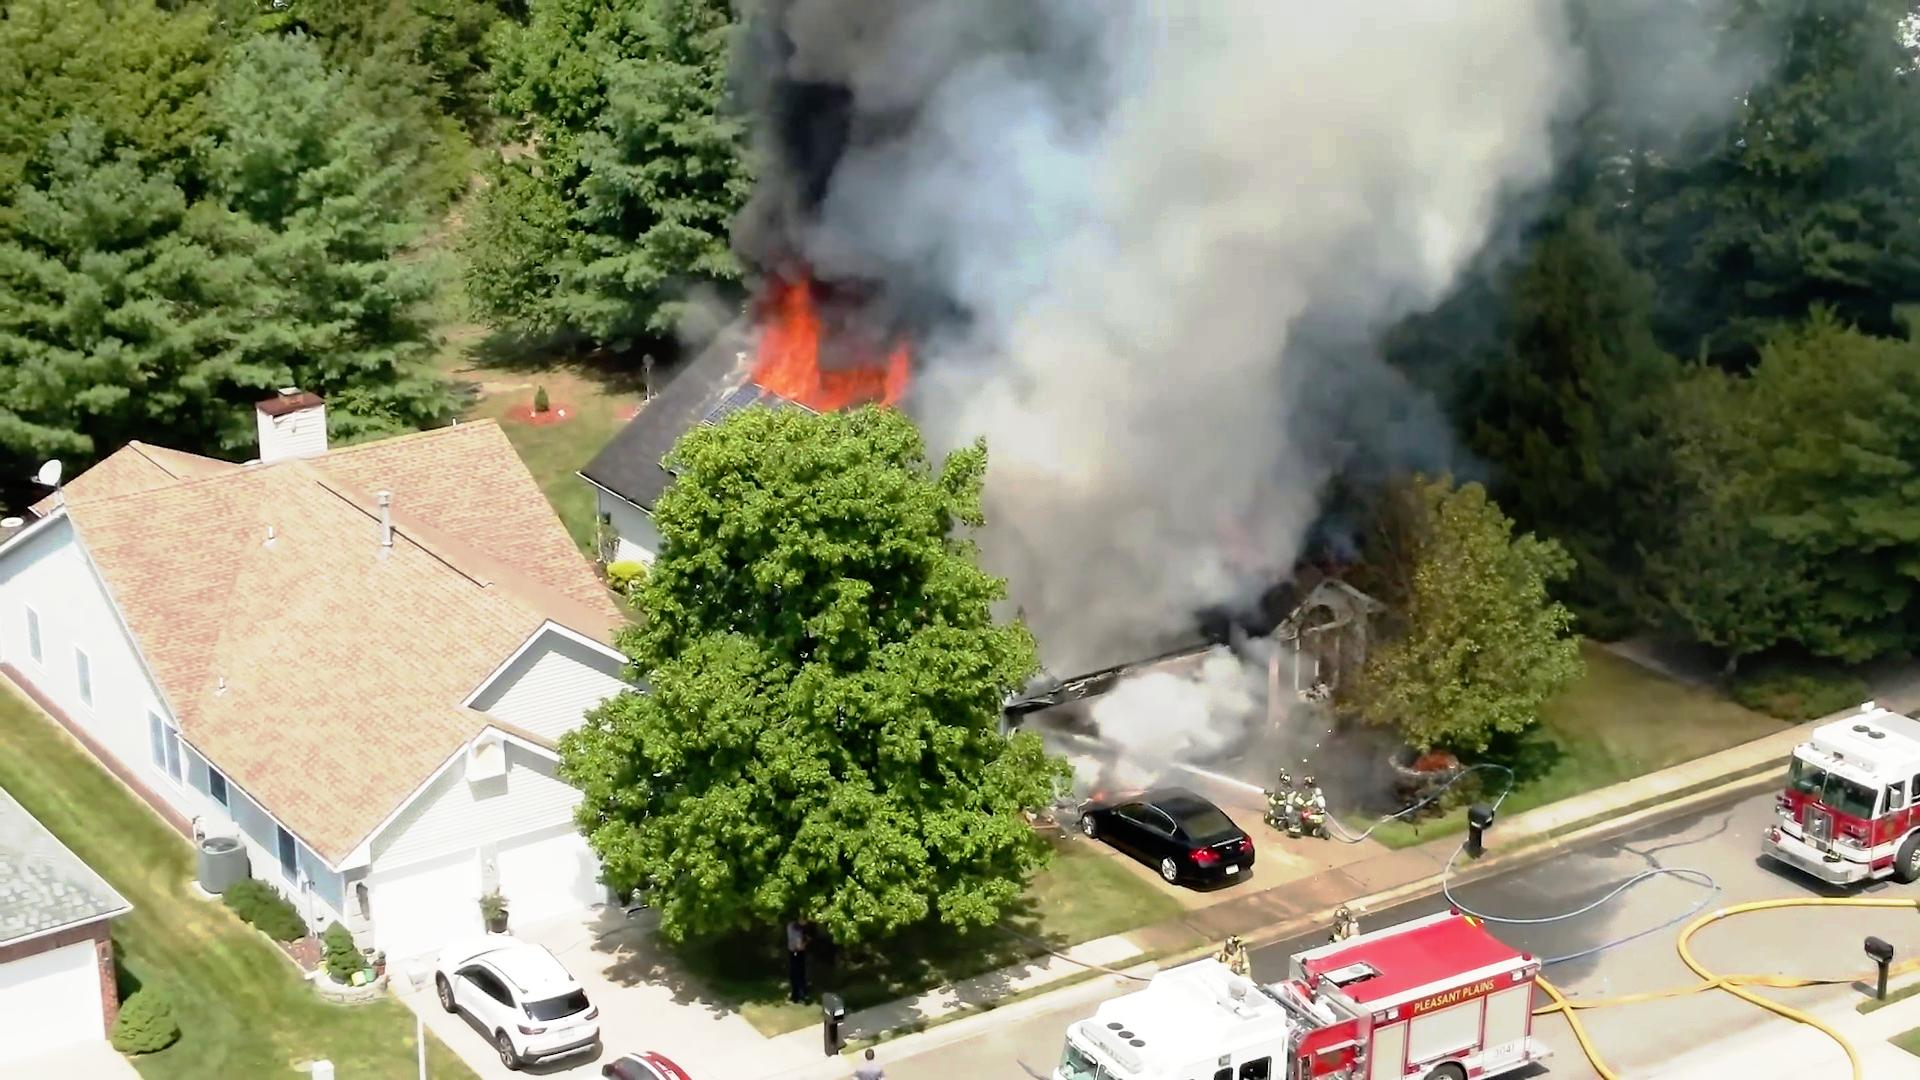fire: (750, 277, 893, 422)
smoke: (972, 29, 1323, 469), (756, 42, 928, 309)
